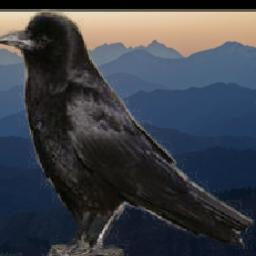Crow: (0, 9, 255, 256)
